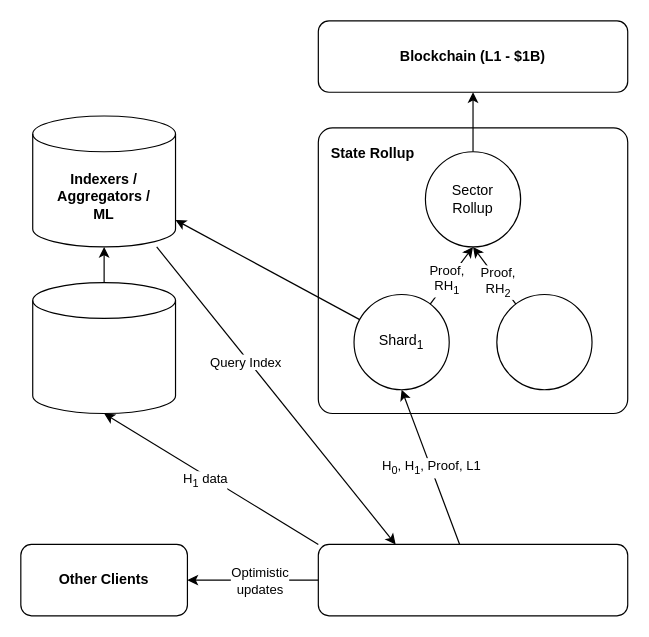
Image size: 649x637. Some labels were removed from this diagram. The shapes that lost their labels are listed below. From the top down, each one's centre as x and y in pixels, then its label:
pixel 104 347: Data / IPFS
pixel 544 341: Shard 2
pixel 472 579: Client
